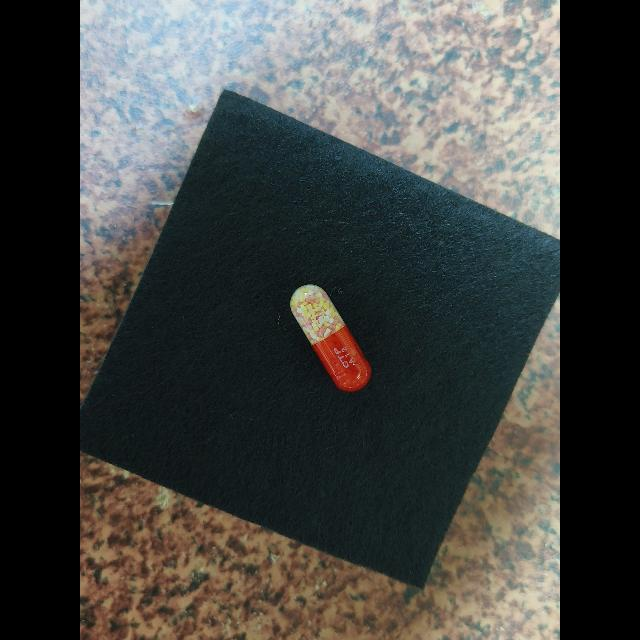Intact Capsule: (290, 285, 372, 392)
